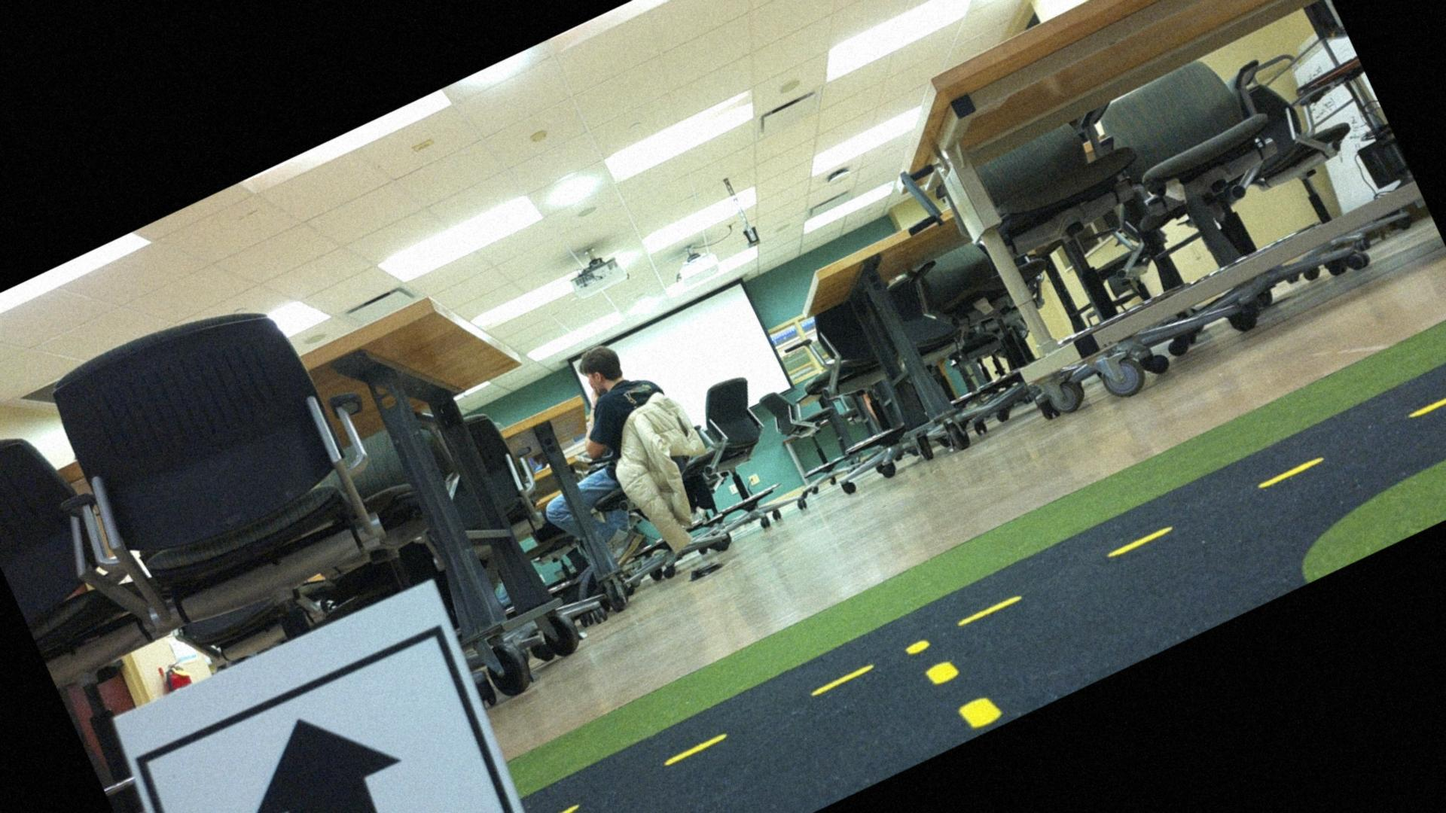gostraight: (111, 585, 556, 812)
yellowline: (527, 370, 1445, 812), (901, 616, 1005, 744)
